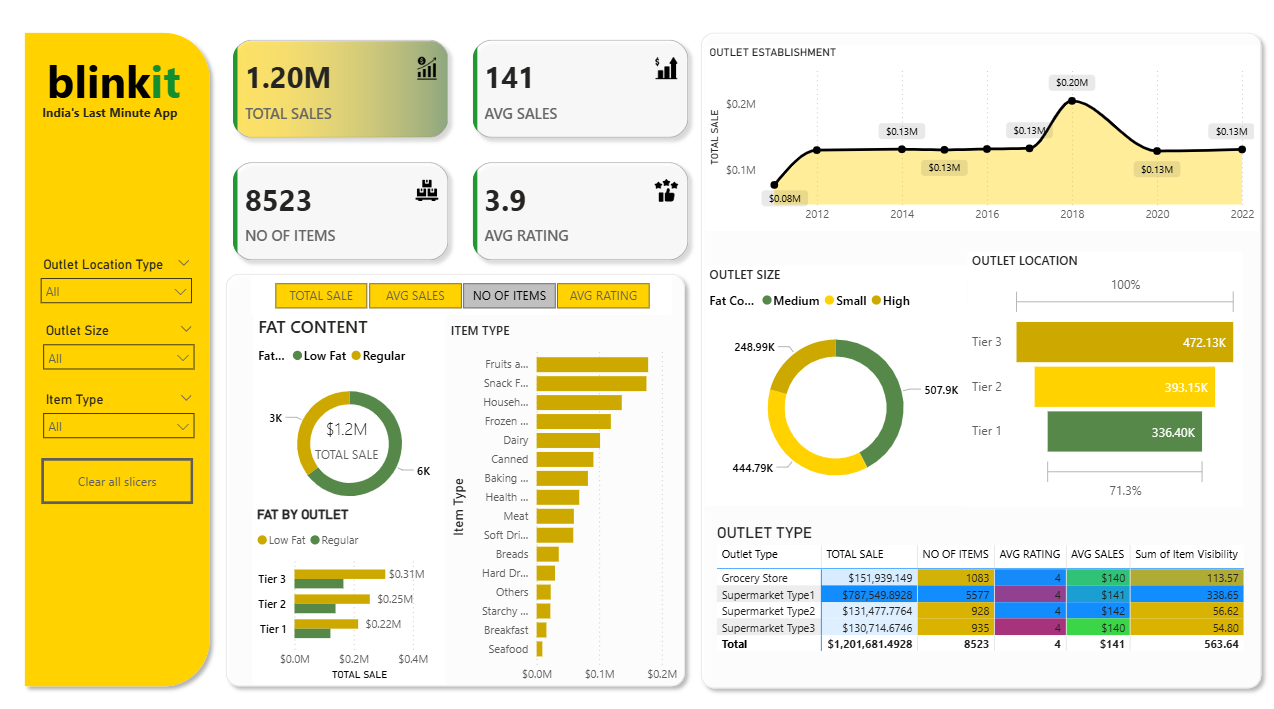

Layout of this report page (visuals, bound fields, positions):
{"tool":"powerbi","page":{"name":"Page 1","canvas":[1400,800],"ordinal":0},"visuals":[{"type":"shape","box":[22.9,34.3,220,731.4],"z":0},{"type":"textbox","box":[51.4,57.1,175.7,74.3],"z":1000},{"type":"textbox","box":[22.9,115.7,204.3,28],"z":2000},{"type":"cardVisual","fields":{"Data":["BlinkIT Grocery Data.TOTAL SALE","BlinkIT Grocery Data.AVG SALES","BlinkIT Grocery Data.NO OF ITEMS","BlinkIT Grocery Data.AVG RATING"]},"box":[242.9,34.3,531.4,275.7],"z":3000},{"type":"shape","box":[242.7,297.3,518.7,468],"z":4000},{"type":"donutChart","title":"FAT CONTENT","fields":{"Y":["BlinkIT Grocery Data.NO OF ITEMS"],"Category":["BlinkIT Grocery Data.Item Fat Content"]},"box":[282.7,350.7,209.3,228],"z":5000},{"type":"card","fields":{"Values":["BlinkIT Grocery Data.TOTAL SALE"]},"box":[324,454.7,118.7,64],"z":6000},{"type":"clusteredBarChart","title":"FAT BY OUTLET","fields":{"Y":["BlinkIT Grocery Data.TOTAL SALE"],"Category":["BlinkIT Grocery Data.Outlet Location Type"],"Series":["BlinkIT Grocery Data.Item Fat Content"]},"box":[281.4,560,210,194.3],"z":7000},{"type":"slicer","fields":{"Values":["MATRIX.MATRIX"]},"box":[280,310,458.6,41.4],"z":8000},{"type":"barChart","title":"ITEM TYPE","fields":{"Y":["BlinkIT Grocery Data.TOTAL SALE"],"Category":["BlinkIT Grocery Data.Item Type"]},"box":[492,358.7,257.3,402.7],"z":9000},{"type":"shape","box":[761.3,34.7,629.3,733.3],"z":10000},{"type":"lineChart","title":"OUTLET ESTABLISHMENT","fields":{"Y":["BlinkIT Grocery Data.TOTAL SALE"],"Category":["BlinkIT Grocery Data.Outlet Establishment Year"]},"box":[774.7,57.3,604,202.7],"z":11000},{"type":"pieChart","title":"OUTLET SIZE","fields":{"Y":["Sum(BlinkIT Grocery Data.Sales)"],"Category":["BlinkIT Grocery Data.Outlet Size"]},"box":[774.7,297.3,285.3,262.7],"z":12000},{"type":"funnel","title":"OUTLET LOCATION","fields":{"Y":["Sum(BlinkIT Grocery Data.Sales)"],"Category":["BlinkIT Grocery Data.Outlet Location Type"]},"box":[1060,282.7,300,277.3],"z":13000},{"type":"pivotTable","title":"OUTLET TYPE","fields":{"Values":["BlinkIT Grocery Data.TOTAL SALE","BlinkIT Grocery Data.NO OF ITEMS","BlinkIT Grocery Data.AVG RATING","BlinkIT Grocery Data.AVG SALES","Sum(BlinkIT Grocery Data.Item Visibility)"],"Rows":["BlinkIT Grocery Data.Outlet Type"]},"box":[782.7,578.7,586.7,194.7],"z":14000},{"type":"slicer","fields":{"Values":["BlinkIT Grocery Data.Outlet Location Type"]},"box":[40,282.7,185.3,72],"z":15000},{"type":"slicer","fields":{"Values":["BlinkIT Grocery Data.Outlet Size"]},"box":[42.7,354.7,185.3,72],"z":16000},{"type":"slicer","fields":{"Values":["BlinkIT Grocery Data.Item Type"]},"box":[42.7,429.3,185.3,72],"z":17000},{"type":"actionButton","box":[50.2,506.7,165.9,50.2],"z":17001}]}

Visuals, with their boxes in screenshot pixels (x1, y1, x2, y2), scaled from the page's 1400x800 canvas onto the 1274x709 screenshot:
shape: [21,30,221,679]
textbox: [47,51,207,116]
textbox: [21,103,207,127]
cardVisual - BlinkIT Grocery Data.TOTAL SALE x BlinkIT Grocery Data.AVG SALES: [221,30,705,275]
shape: [221,263,693,678]
"FAT CONTENT" donutChart: [257,311,448,513]
card - BlinkIT Grocery Data.TOTAL SALE: [295,403,403,460]
"FAT BY OUTLET" clusteredBarChart: [256,496,447,668]
slicer - MATRIX.MATRIX: [255,275,672,311]
"ITEM TYPE" barChart: [448,318,682,675]
shape: [693,31,1265,681]
"OUTLET ESTABLISHMENT" lineChart: [705,51,1255,230]
"OUTLET SIZE" pieChart: [705,263,965,496]
"OUTLET LOCATION" funnel: [965,251,1238,496]
"OUTLET TYPE" pivotTable: [712,513,1246,685]
slicer - BlinkIT Grocery Data.Outlet Location Type: [36,251,205,314]
slicer - BlinkIT Grocery Data.Outlet Size: [39,314,207,378]
slicer - BlinkIT Grocery Data.Item Type: [39,380,207,444]
actionButton: [46,449,197,494]
